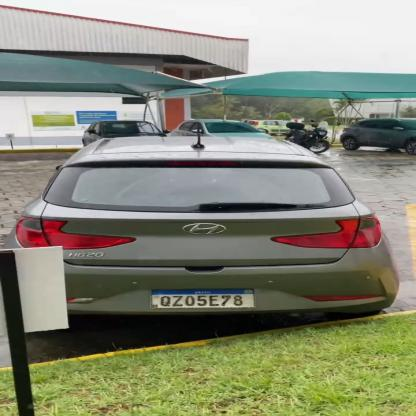Plate: (148, 283, 260, 312)
